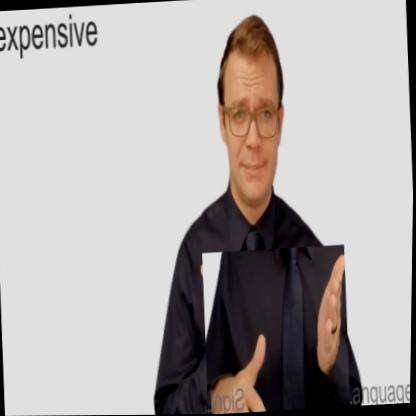Expensive: (201, 245, 353, 415)
